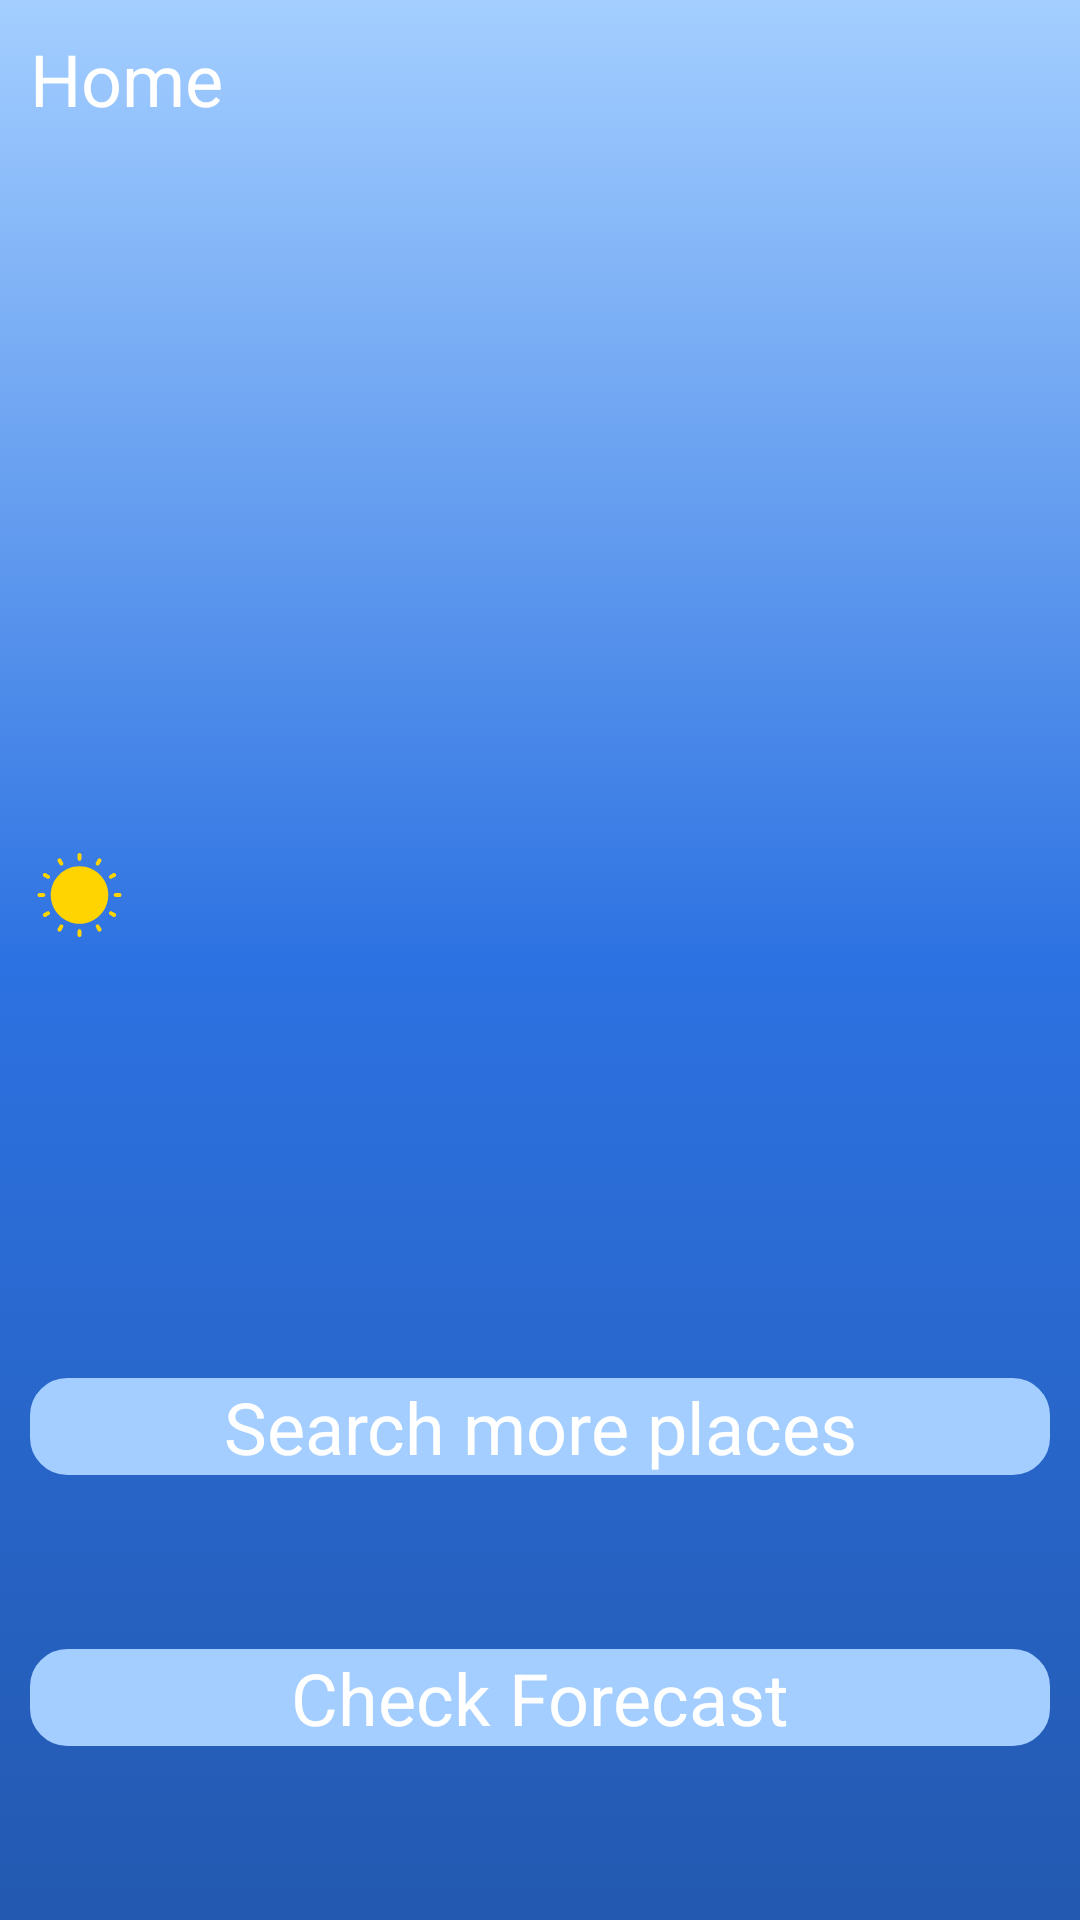

Icons on this 1080px×1920px Android screen, each with its box as (x1, y1, x2, y2):
sunnysmall: (37, 853, 122, 937)
